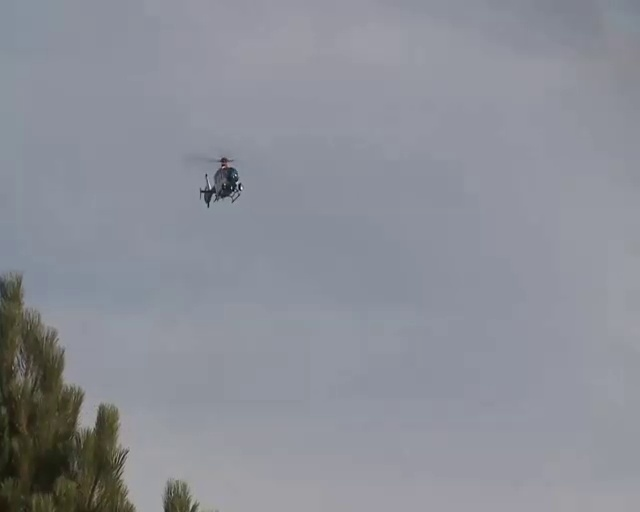HELICOPTER: (192, 154, 244, 208)
